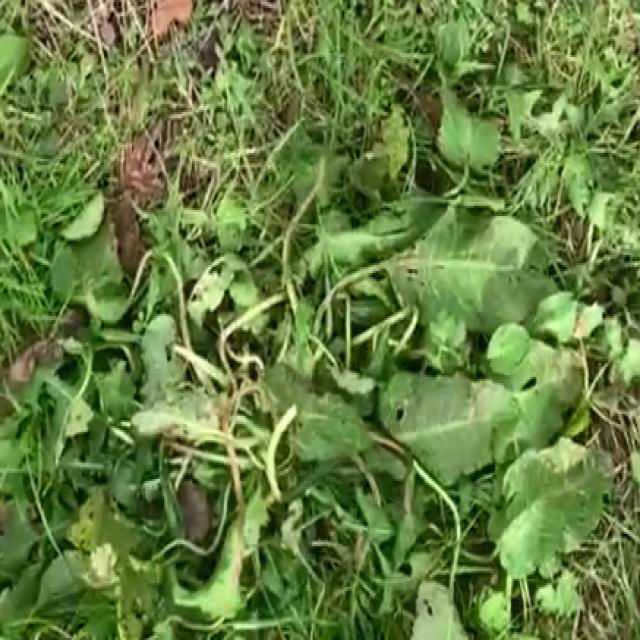organic waste: (36, 128, 604, 640)
